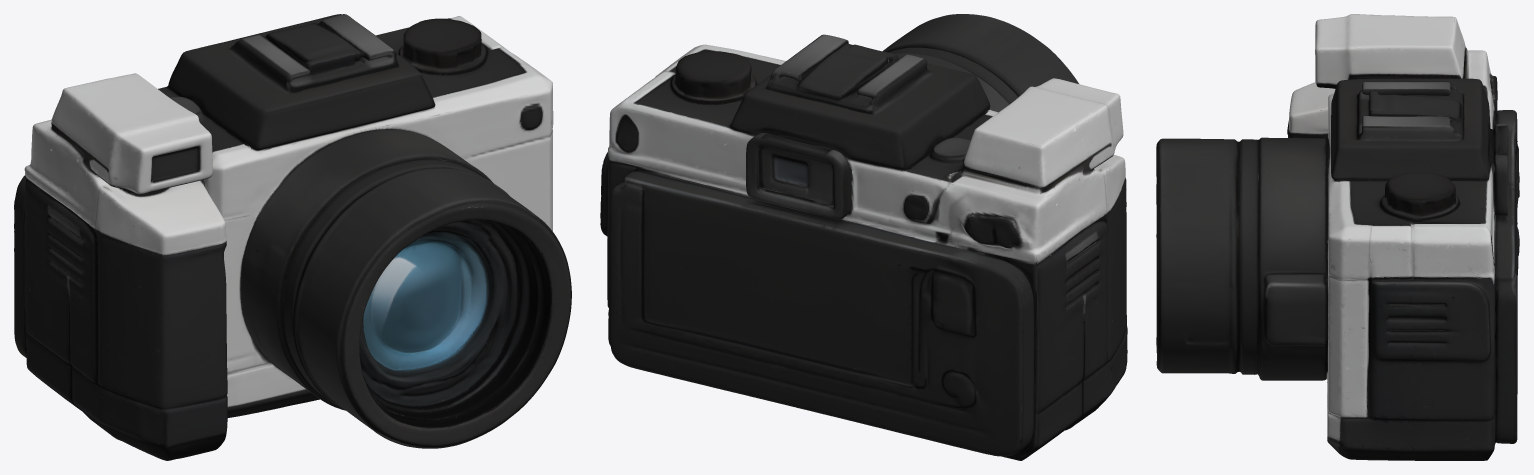
Rendered from camera.glb.
3 views of the same model, side by side, from view 1: azimuth 30°, elevation 25°; view 2: azimuth 150°, elevation 25°; view 3: azimuth 270°, elevation 25° (orthographic). The views are drawn at different scales.
Visible parts, largest first — view 1: world; view 2: world; view 3: world.
Part boxes in pixels (bbox=[...]): world: bbox=[14, 14, 571, 460]; world: bbox=[600, 14, 1127, 460]; world: bbox=[1156, 14, 1519, 460].
Size of the model in its own units: 1 by 0.6772 by 0.792.
Materials: 1 (1 with a texture image).
